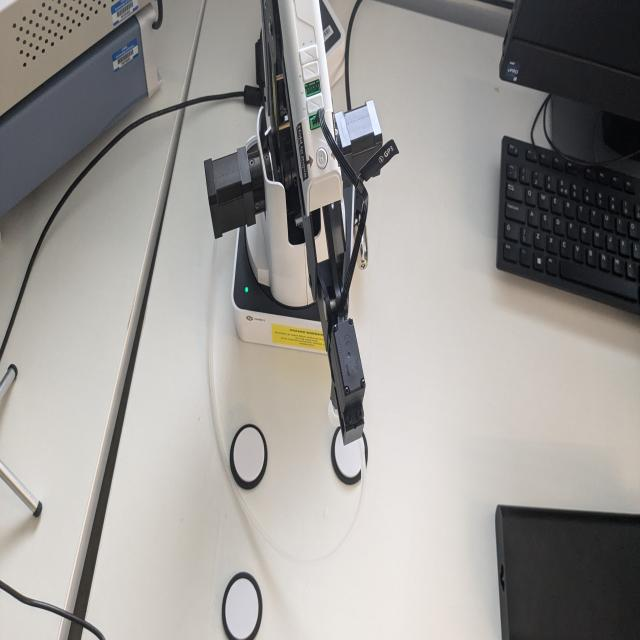Robot-end-effector-HF8z: (322, 313, 369, 448)
